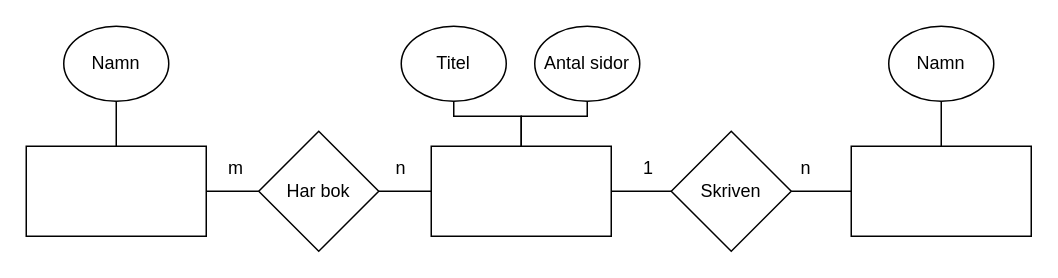
This 1058x278 diagram has some shape labels left out. The shapes that lost their labels are listed below. From the top down, each one's centre as x and y in pixels, then its label:
At point (115, 190): "Bokhandel".
At point (520, 190): "Bok".
At point (940, 190): "Författare".
